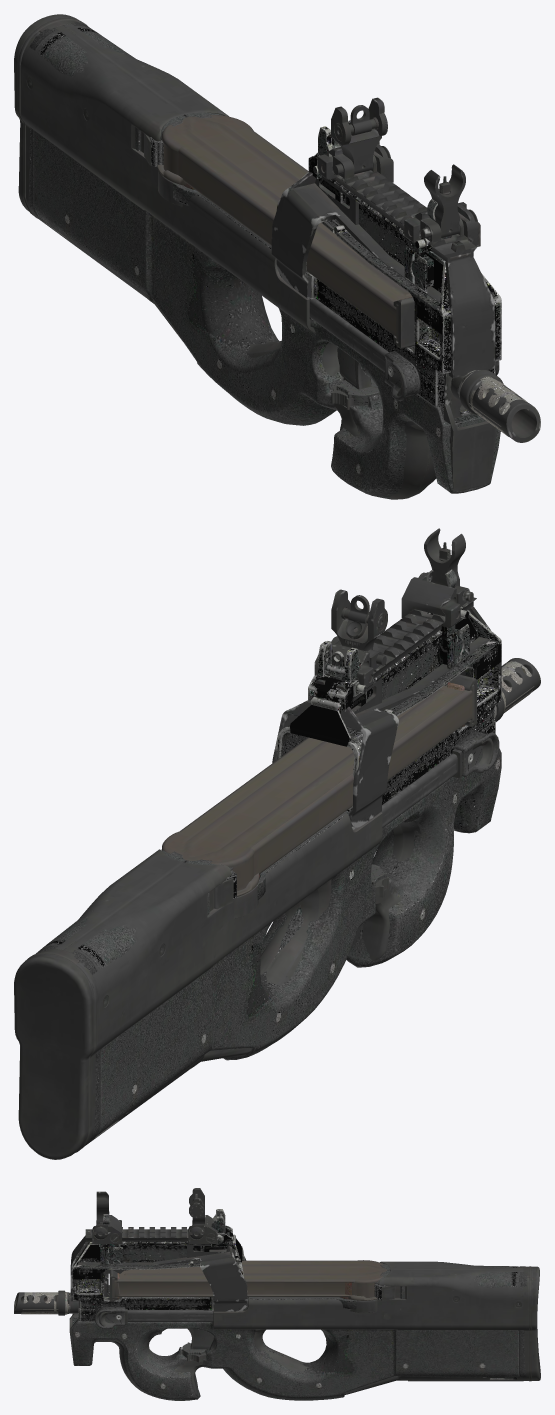
The picture shows the model from 3 angles, top to bottom: view 1: azimuth 30°, elevation 25°; view 2: azimuth 150°, elevation 25°; view 3: azimuth 270°, elevation 25°; orthographic projection. The views are drawn at different scales.
Parts seen in each view (by area): view 1: weapons\models\p90\weapon_smg_p90.vmdl_c.body_hd, weapons\models\p90\weapon_smg_p90.vmdl_c.body_legacy; view 2: weapons\models\p90\weapon_smg_p90.vmdl_c.body_hd, weapons\models\p90\weapon_smg_p90.vmdl_c.body_legacy; view 3: weapons\models\p90\weapon_smg_p90.vmdl_c.body_hd, weapons\models\p90\weapon_smg_p90.vmdl_c.body_legacy.
Boxes of the visible parts, <box> form: weapons\models\p90\weapon_smg_p90.vmdl_c.body_hd: <box>14,14,540,499</box>; weapons\models\p90\weapon_smg_p90.vmdl_c.body_legacy: <box>28,22,529,499</box>; weapons\models\p90\weapon_smg_p90.vmdl_c.body_hd: <box>14,528,540,1159</box>; weapons\models\p90\weapon_smg_p90.vmdl_c.body_legacy: <box>36,569,534,1139</box>; weapons\models\p90\weapon_smg_p90.vmdl_c.body_hd: <box>14,1188,540,1396</box>; weapons\models\p90\weapon_smg_p90.vmdl_c.body_legacy: <box>21,1209,527,1400</box>.
Bounding box in the file's own units: 0.0597 × 0.2231 × 0.5177.
2 materials, 2 textured.
